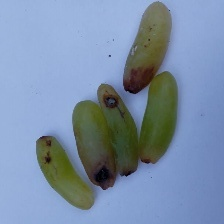grapes: (34, 44, 175, 205)
